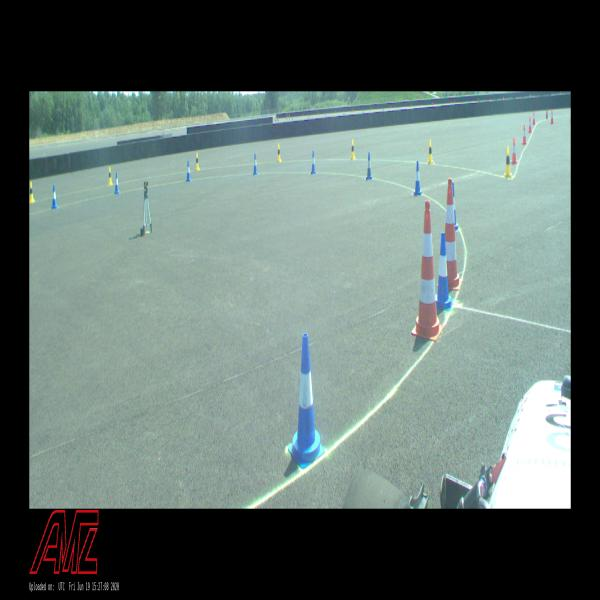blue_cone: (288, 333, 325, 468), (436, 234, 453, 310), (451, 182, 458, 230), (413, 160, 422, 195), (366, 152, 373, 179), (50, 185, 58, 208), (114, 172, 120, 194), (186, 160, 192, 182), (311, 150, 316, 174), (253, 154, 258, 176)
large_orange_cone: (411, 202, 443, 340), (445, 179, 462, 290)
orange_cone: (510, 138, 518, 164), (522, 124, 527, 144), (528, 117, 532, 132), (550, 110, 554, 124), (532, 111, 536, 124)
yellow_cone: (504, 148, 512, 178), (428, 140, 434, 163), (276, 144, 282, 162), (351, 139, 356, 160), (29, 181, 34, 202), (195, 152, 200, 171), (107, 166, 112, 185)
